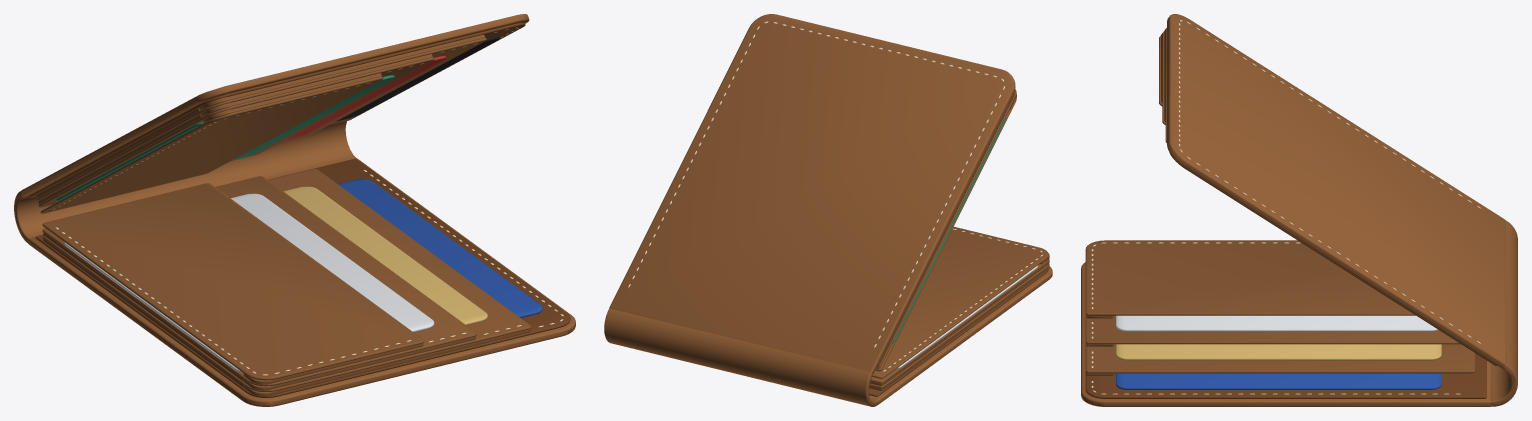
File: slim-leather-wallet.glb
3 renders of one model, left to right at view 1: azimuth 30°, elevation 25°; view 2: azimuth 150°, elevation 25°; view 3: azimuth 270°, elevation 25°, orthographic. The views are drawn at different scales.
Parts seen in each view (by area): view 1: wallet-slot (×6), wallet-card (×6), wallet-shell (×2), wallet-edge (×10), wallet-lining (×2), wallet-spine, wallet-stitch; view 2: wallet-shell (×2), wallet-slot (×5), wallet-spine, wallet-edge (×2), wallet-card (×2), wallet-stitch, wallet-lining; view 3: wallet-shell (×2), wallet-slot (×3), wallet-card (×3), wallet-lining (×2), wallet-spine, wallet-stitch (×2).
Part boxes in pixels (x1=…): wallet-slot (×6): x1=37, y1=38, x2=531, y2=391; wallet-card (×6): x1=56, y1=36, x2=542, y2=372; wallet-shell (×2): x1=20, y1=14, x2=575, y2=406; wallet-edge (×10): x1=36, y1=34, x2=530, y2=396; wallet-lining (×2): x1=29, y1=22, x2=570, y2=397; wallet-spine: x1=14, y1=121, x2=356, y2=243; wallet-stitch: x1=55, y1=170, x2=563, y2=375; wallet-shell (×2): x1=609, y1=14, x2=1052, y2=404; wallet-slot (×5): x1=869, y1=93, x2=1048, y2=388; wallet-spine: x1=604, y1=308, x2=878, y2=406; wallet-edge (×2): x1=869, y1=267, x2=1041, y2=390; wallet-card (×2): x1=892, y1=115, x2=1037, y2=368; wallet-stitch: x1=628, y1=21, x2=1004, y2=347; wallet-lining: x1=869, y1=269, x2=1048, y2=396; wallet-shell (×2): x1=1081, y1=14, x2=1506, y2=406; wallet-slot (×3): x1=1085, y1=240, x2=1474, y2=373; wallet-card (×3): x1=1116, y1=315, x2=1441, y2=389; wallet-lining (×2): x1=1085, y1=152, x2=1496, y2=398; wallet-spine: x1=1490, y1=220, x2=1517, y2=406; wallet-stitch (×2): x1=1091, y1=20, x2=1480, y2=394.
Size of the model in its own units: 0.09 by 0.0742 by 0.1148.
